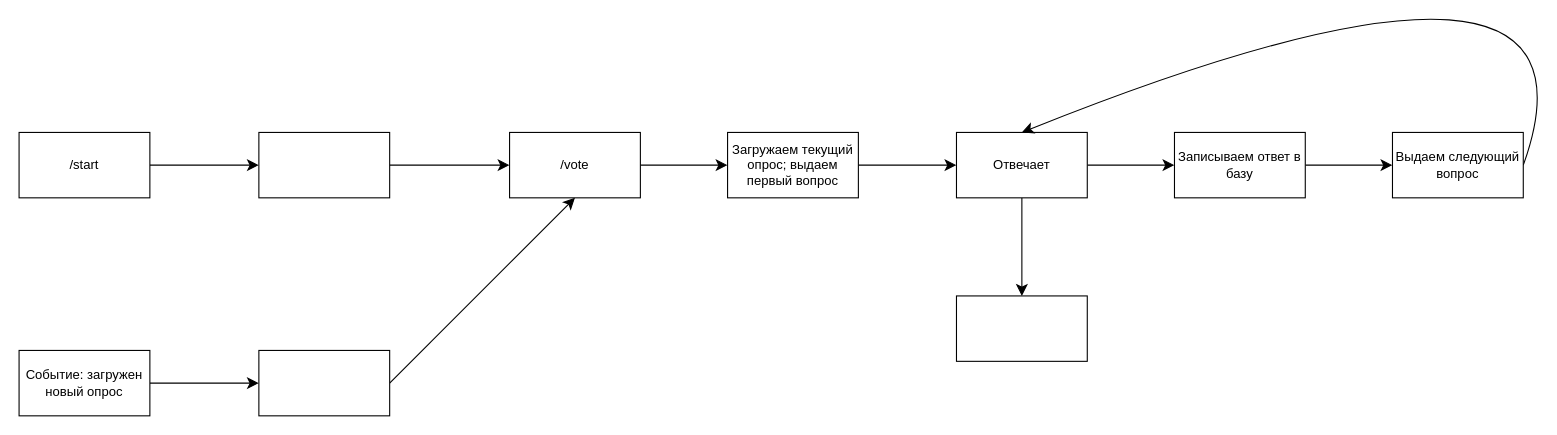
Image size: 1557x435. Some labels were removed from this diagram. Here are the shapes that lost their labels. From the top down, the box of each, then its label:
(258, 131, 390, 198): Приветсвие. Просим /vote
(955, 295, 1087, 361): Вопросы кончились. Благодарим
(258, 349, 390, 416): Отправляем уведомление пользователям
